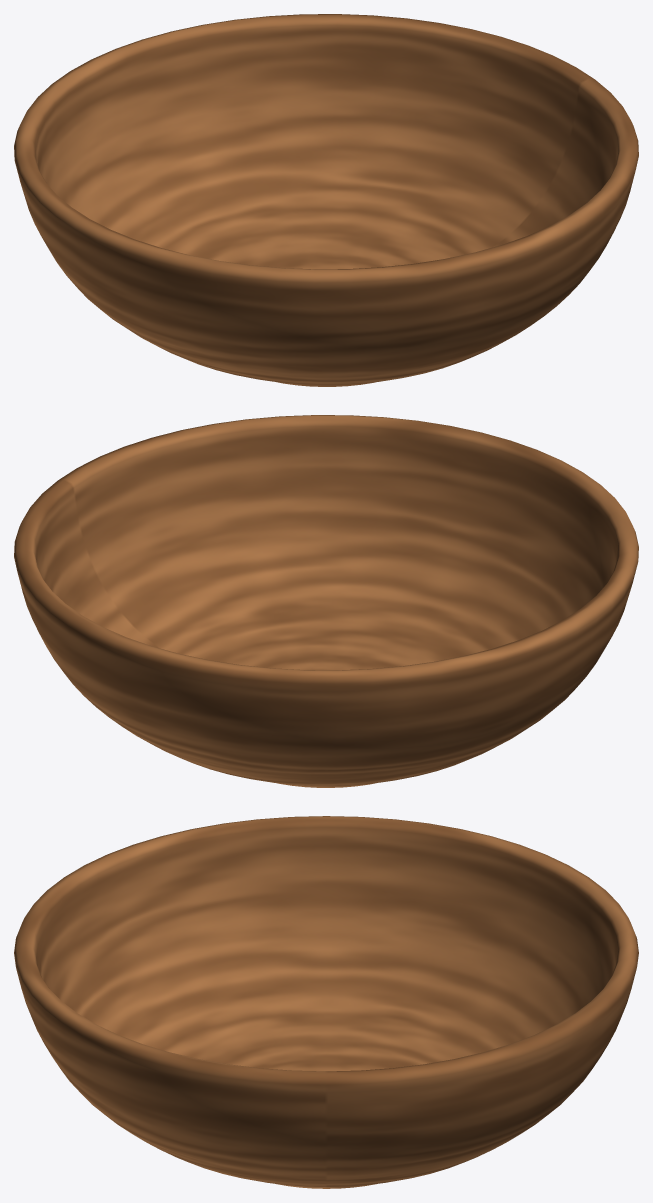
3 renders of one model, top to bottom at view 1: azimuth 30°, elevation 25°; view 2: azimuth 150°, elevation 25°; view 3: azimuth 270°, elevation 25°, orthographic.
Visible parts, largest first — view 1: Bowl, turned wood; view 2: Bowl, turned wood; view 3: Bowl, turned wood.
Part boxes in pixels (box(x1,y1,x2,y2)): Bowl, turned wood: box(14, 14, 638, 386); Bowl, turned wood: box(14, 415, 638, 787); Bowl, turned wood: box(14, 816, 638, 1188).
Bounding box in the file's own units: 0.24 × 0.0825 × 0.24.
Materials: 1 (1 with a texture image).
